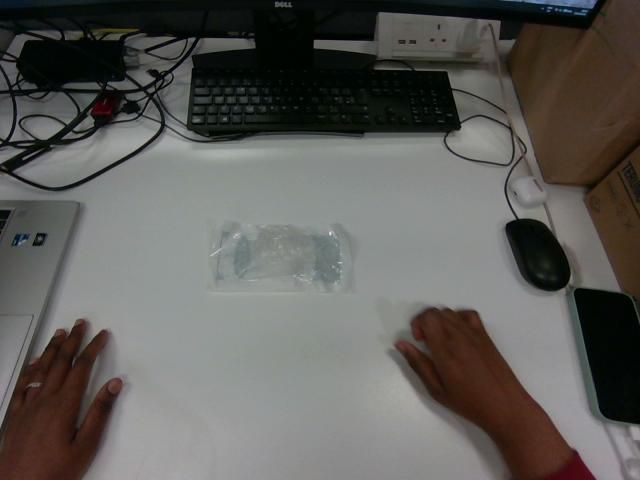gallipot: (210, 221, 352, 292)
